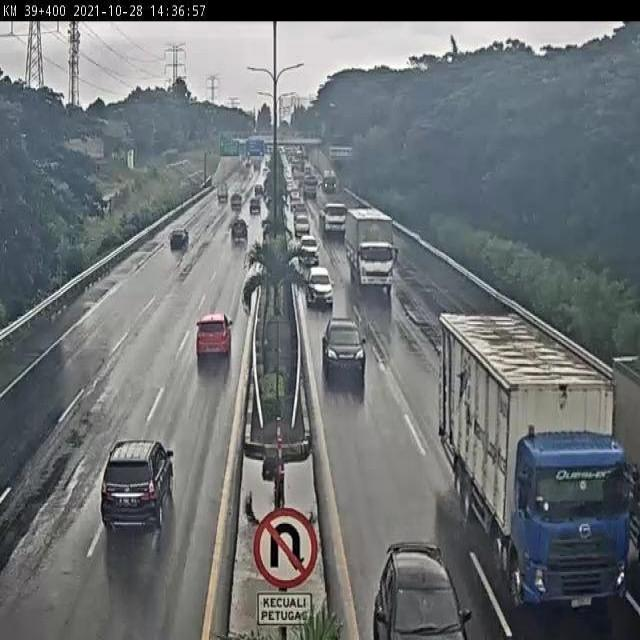big truck: (523, 428, 636, 621), (348, 205, 388, 296), (320, 200, 342, 227)
car: (382, 508, 462, 628), (94, 437, 182, 524), (184, 302, 234, 382), (333, 318, 365, 390), (311, 250, 330, 302), (166, 228, 190, 257), (227, 230, 247, 258), (300, 232, 315, 249)
